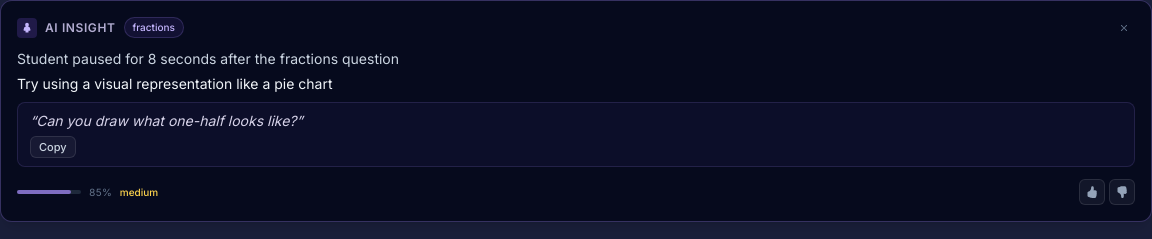
AISuggestionCard › shows thank you message after giving feedback
The width and height of the screenshot is (1152, 239).
What coordinates should you click on to do the following:
click the button with test id "feedback-helpful-btn"
I would click on:
 (1092, 192)
Its box is x1=1079 y1=179 x2=1105 y2=205.
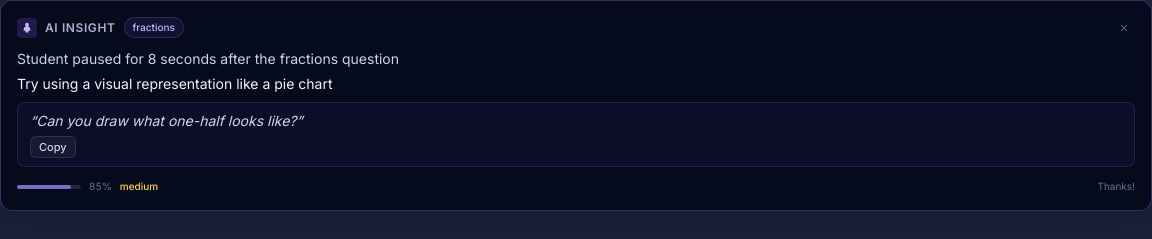
Expected: the text with test id "feedback-thanks" reads "Thanks!", x1=1098 y1=180 x2=1135 y2=192
Expected: the button with test id "feedback-helpful-btn" is gone
Expected: the button with test id "feedback-unhelpful-btn" is gone
